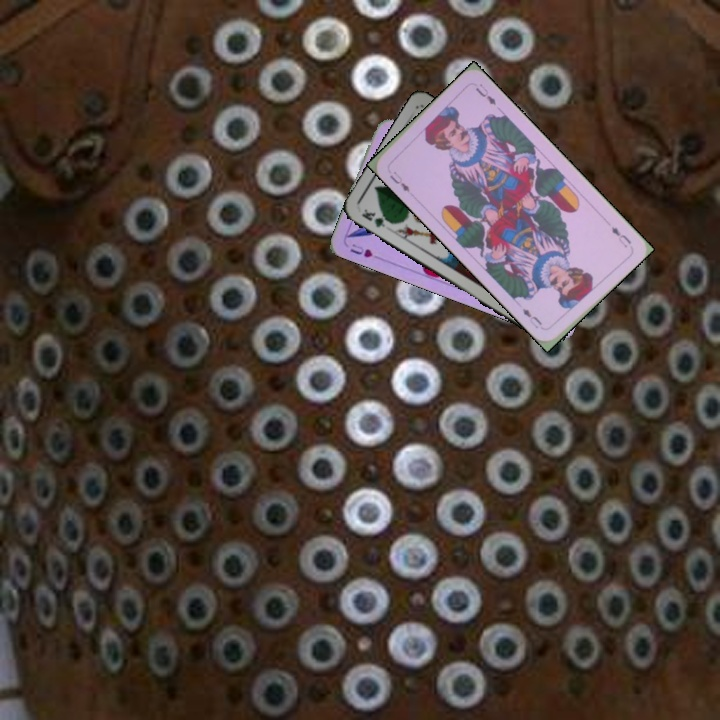EU: (385, 167, 412, 195), (607, 223, 634, 250)
GK: (357, 205, 396, 230)
HU: (346, 240, 383, 260)
